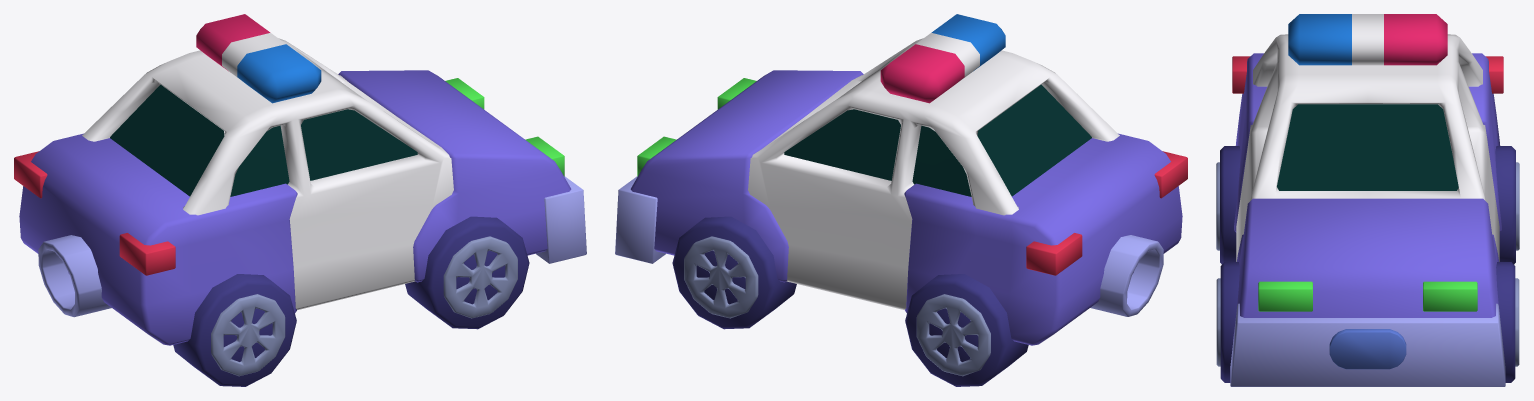
File: police.fbx
3 renders of one model, left to right at view 1: azimuth 30°, elevation 25°; view 2: azimuth 150°, elevation 25°; view 3: azimuth 270°, elevation 25°, orthographic. The views are drawn at different scales.
Visible parts, largest first — view 1: Cube.174, Cube.021, Cube.022, Cube.173, Cylinder.088, Cylinder.090, Cylinder.091, Cylinder.089, Cylinder.092, Cube.025, Cube.023, Cube.024; view 2: Cube.174, Cube.021, Cube.022, Cube.173, Cylinder.088, Cylinder.090, Cylinder.091, Cylinder.089, Cylinder.092, Cube.025, Cube.023, Cube.024; view 3: Cube.174, Cube.021, Cube.025, Cube.022, Cube.173, Cylinder.088, Cylinder.090, Cube.024, Cube.175, Cube.023, Cylinder.091, Cylinder.089.
Boxes of the visible parts, box(x1,y1,x2,y2) form: Cube.174: box(19, 70, 571, 345); Cube.021: box(82, 38, 453, 310); Cube.022: box(110, 84, 417, 196); Cube.173: box(196, 14, 321, 103); Cylinder.088: box(173, 274, 296, 386); Cylinder.090: box(405, 216, 529, 329); Cylinder.091: box(443, 236, 517, 318); Cylinder.089: box(211, 294, 285, 376); Cylinder.092: box(38, 235, 111, 317); Cube.025: box(536, 176, 586, 263); Cube.023: box(14, 151, 175, 275); Cube.024: box(445, 78, 564, 176); Cube.174: box(630, 70, 1182, 345); Cube.021: box(748, 38, 1119, 310); Cube.022: box(784, 84, 1091, 196); Cube.173: box(880, 14, 1005, 103); Cylinder.088: box(905, 274, 1028, 386); Cylinder.090: box(672, 216, 796, 329); Cylinder.091: box(684, 236, 758, 318); Cylinder.089: box(916, 294, 990, 376); Cylinder.092: box(1090, 235, 1163, 316); Cube.025: box(615, 176, 665, 263); Cube.023: box(1026, 151, 1187, 275); Cube.024: box(637, 78, 756, 176); Cube.174: box(1233, 53, 1502, 341); Cube.021: box(1236, 34, 1499, 261); Cube.025: box(1230, 303, 1505, 386); Cube.022: box(1277, 104, 1458, 190); Cube.173: box(1288, 14, 1447, 65); Cylinder.088: box(1220, 146, 1515, 264); Cylinder.090: box(1220, 262, 1515, 382); Cube.024: box(1258, 281, 1477, 311); Cube.175: box(1329, 329, 1406, 369); Cube.023: box(1232, 56, 1503, 93); Cylinder.091: box(1216, 278, 1519, 366); Cylinder.089: box(1216, 162, 1519, 250).
Bounding box in the file's own units: 510 × 280 × 275.
